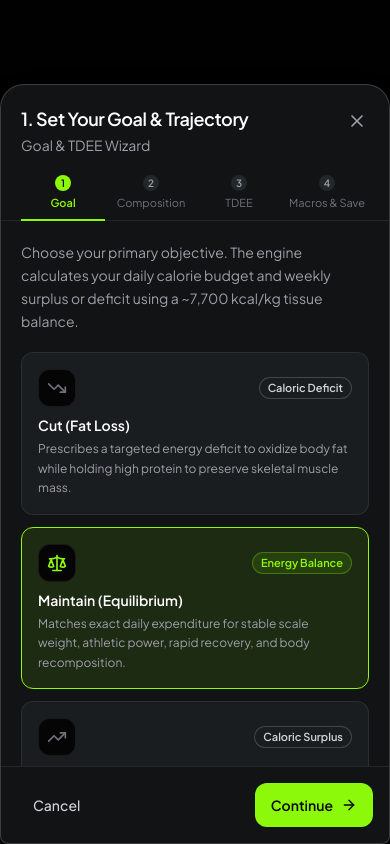
NutritionGoalWizard: validation before saving › blocks progress and shows inline errors for empty weight, and persists nothing
Click the button "Continue": {"x": 314, "y": 805} [255,783,373,827]
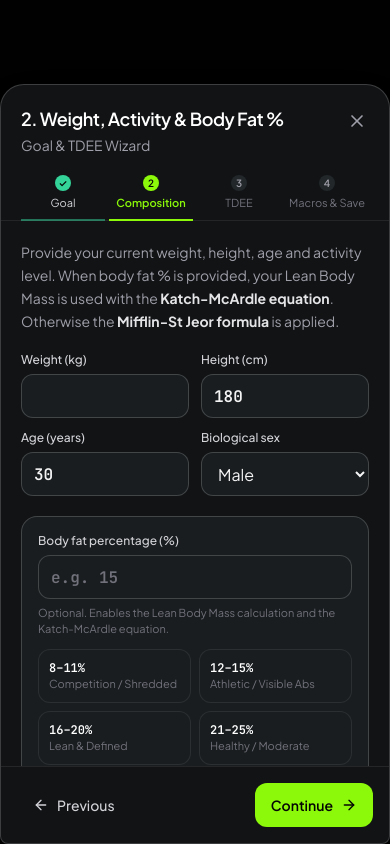
Clear the number field labelled "Weight (kg)": {"x": 105, "y": 396} [21,374,189,418]
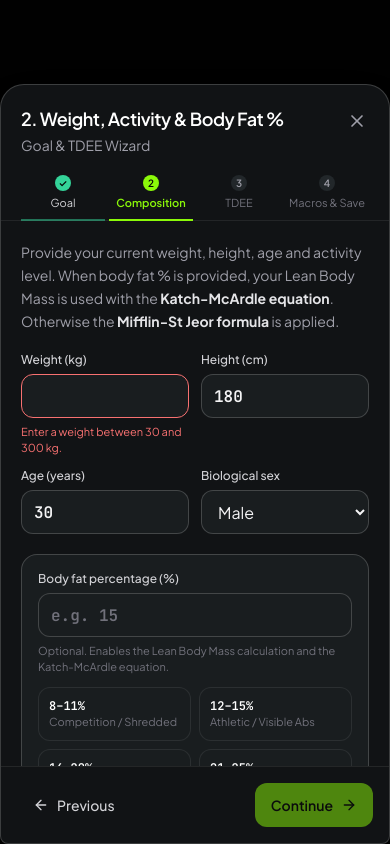
Expected: the text "Enter a weight between" is shown, [21,425,182,454]
Expected: the button "Continue" is disabled, [255,783,373,827]
